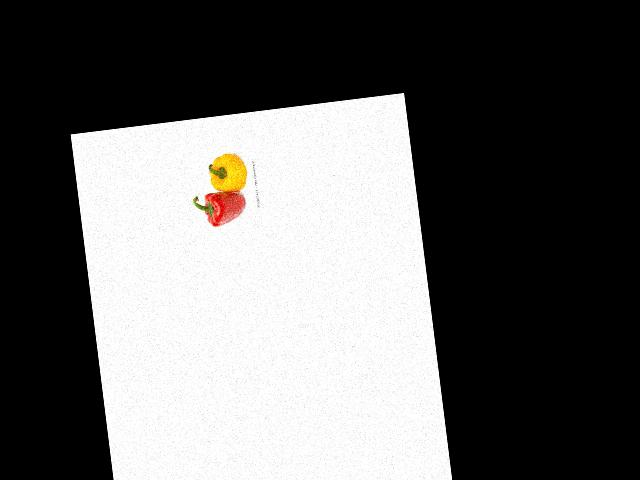bell_pepper: (203, 149, 252, 196)
